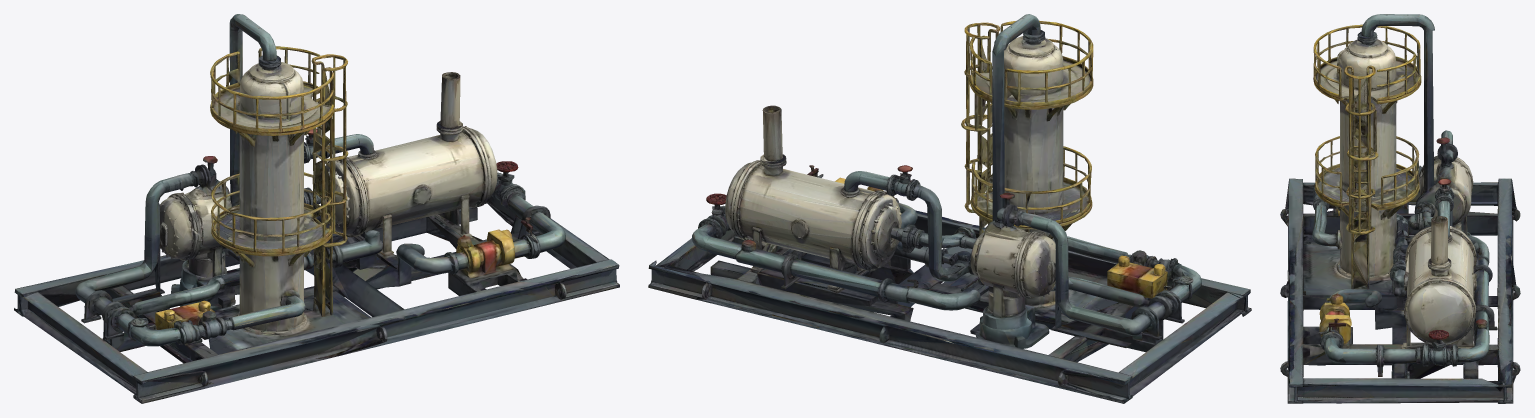
Rendered from teg.glb.
The picture shows the model from 3 angles, left to right: view 1: azimuth 30°, elevation 25°; view 2: azimuth 150°, elevation 25°; view 3: azimuth 270°, elevation 25°; orthographic projection. The views are drawn at different scales.
Size of the model in its own units: 1.9 by 1.11 by 0.9331.
1 material, 1 textured.
